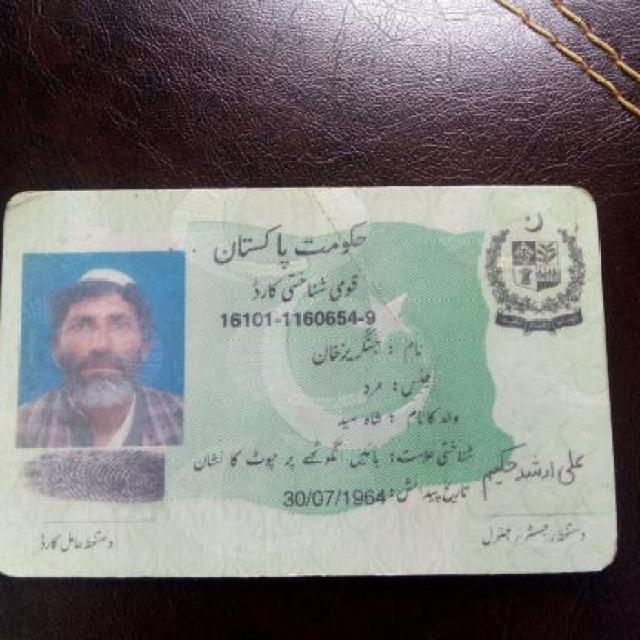Front: (7, 178, 616, 582)
